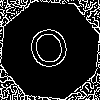O: (25, 25, 76, 80)
